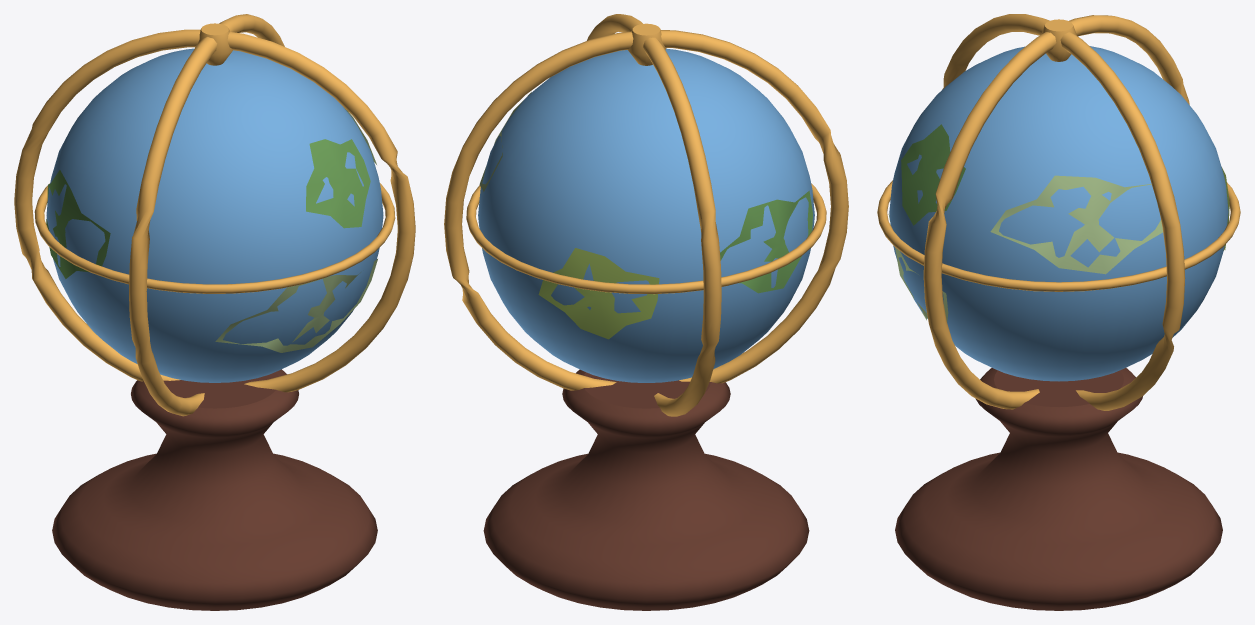
File: atelier_globe.glb
The picture shows the model from 3 angles, left to right: view 1: azimuth 30°, elevation 25°; view 2: azimuth 150°, elevation 25°; view 3: azimuth 270°, elevation 25°; orthographic projection.
Visible parts, largest first — view 1: Globo de gabinete; view 2: Globo de gabinete; view 3: Globo de gabinete.
Boxes of the visible parts, left/top/right/bottom form: Globo de gabinete: left=14, top=14, right=415, bottom=610; Globo de gabinete: left=444, top=14, right=848, bottom=610; Globo de gabinete: left=877, top=14, right=1240, bottom=610.
Size of the model in its own units: 0.514 by 0.824 by 0.514.
